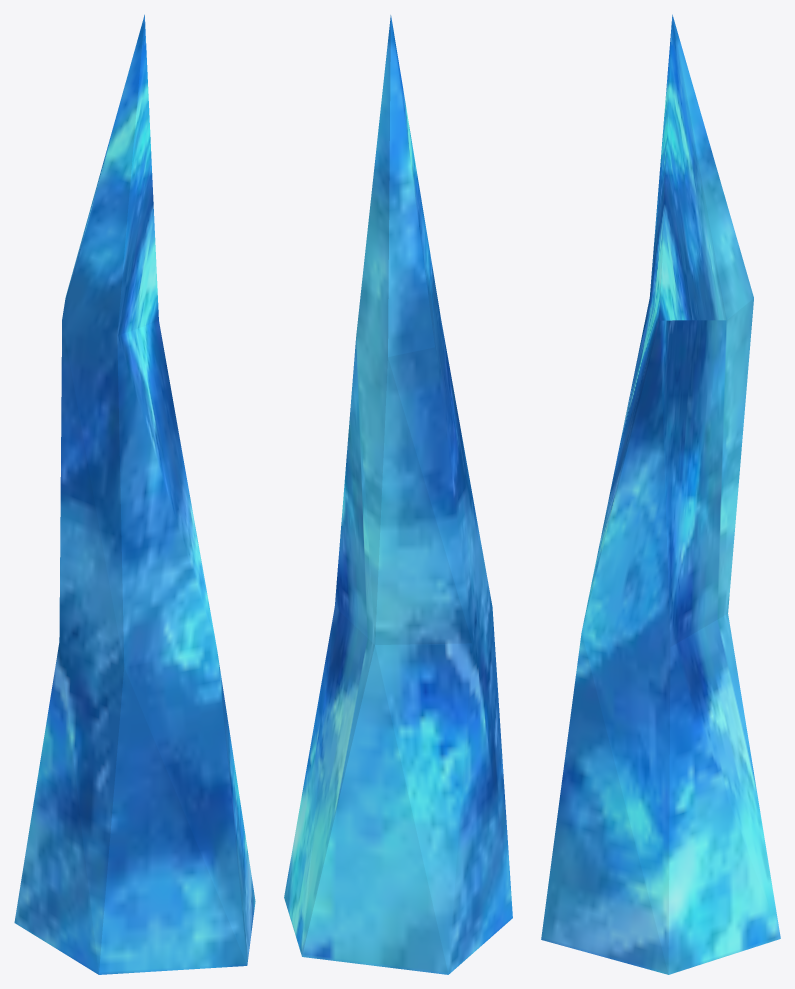
Rendered from terra_spear02-d7ed0e17.glb.
3 renders of one model, left to right at view 1: azimuth 30°, elevation 25°; view 2: azimuth 150°, elevation 25°; view 3: azimuth 270°, elevation 25°, orthographic.
Parts seen in each view (by area): view 1: terra_spear01; view 2: terra_spear01; view 3: terra_spear01.
Boxes of the visible parts, x1,y1,x2,y2 form: terra_spear01: [14, 14, 255, 974]; terra_spear01: [284, 15, 512, 974]; terra_spear01: [541, 14, 780, 974].
Bounding box in the file's own units: 0.3013 × 1.3 × 0.3099.
1 material, 1 textured.
